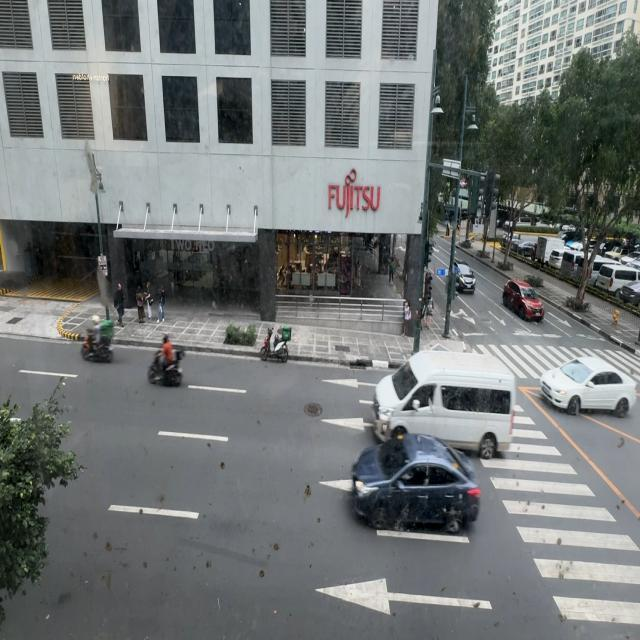waiting: (424, 294, 433, 330)
